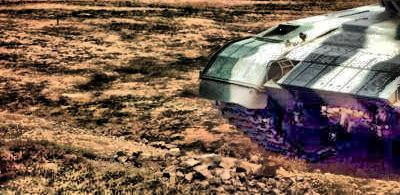tanks: (201, 1, 400, 156)
